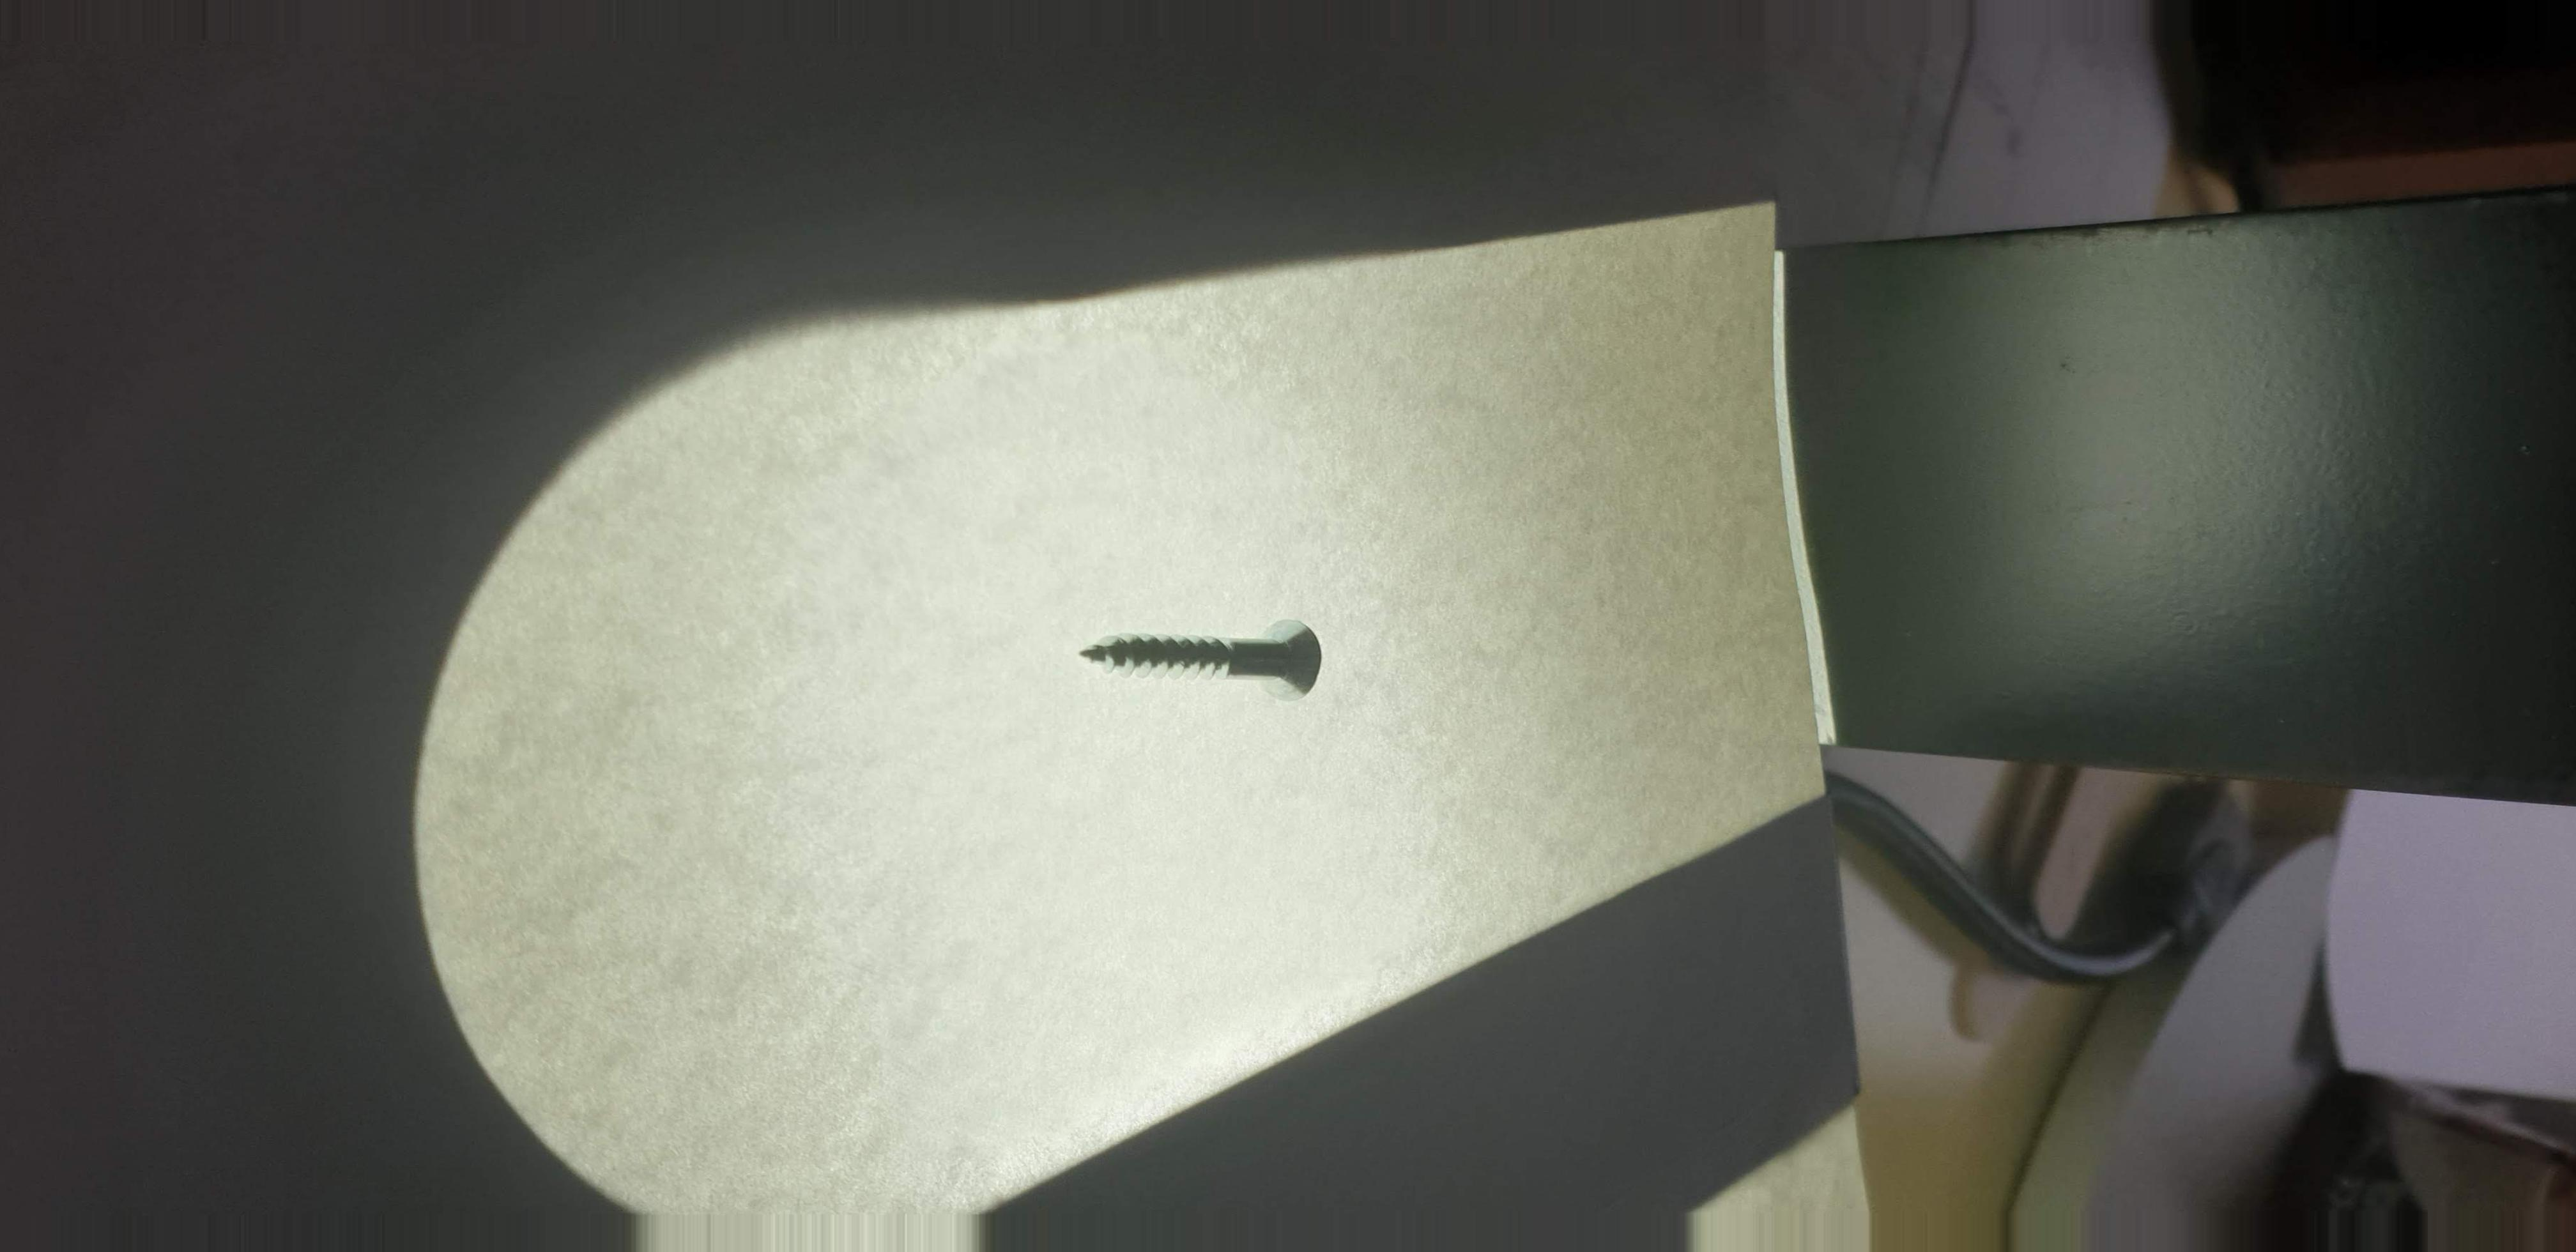S005: (1045, 603, 1388, 718)
